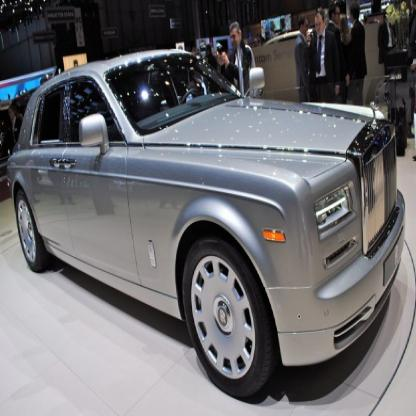Vehicle: (7, 50, 406, 400)
